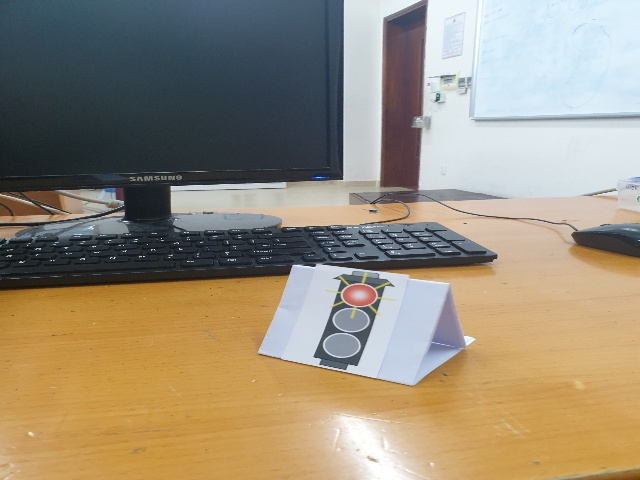Red Light: (310, 269, 397, 374)
